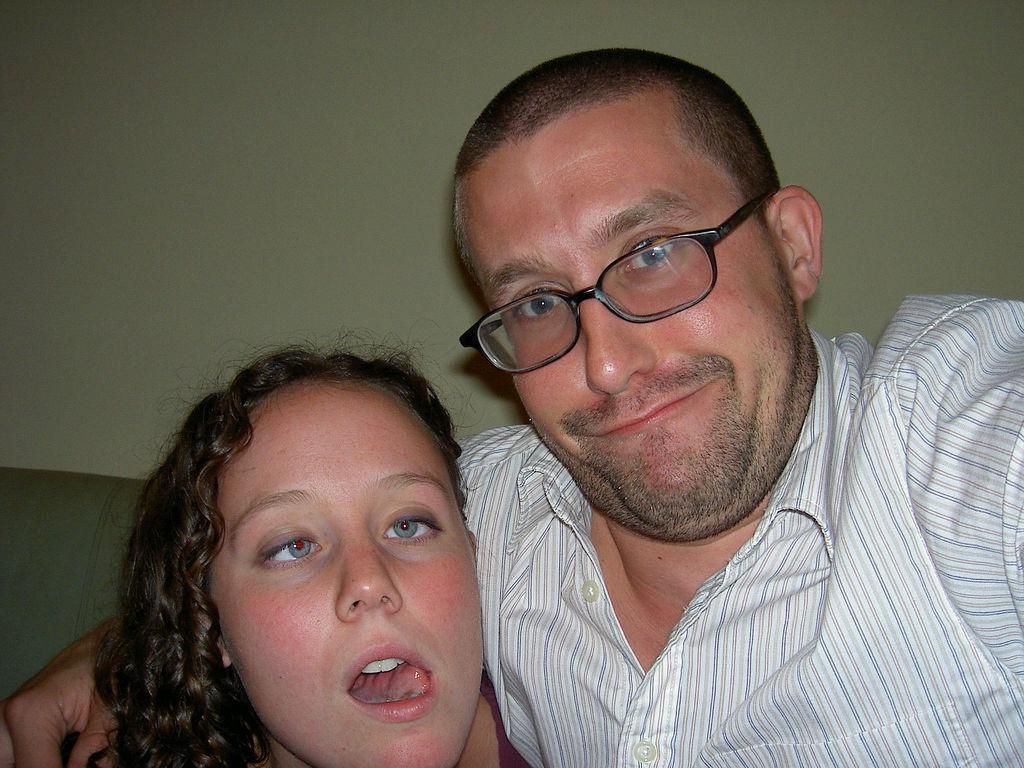Drunk: (469, 152, 799, 525), (222, 402, 479, 757)
